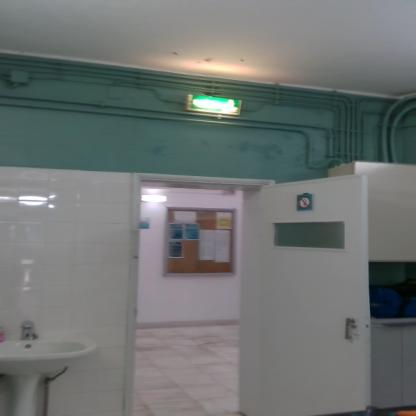open: (119, 166, 373, 416)
